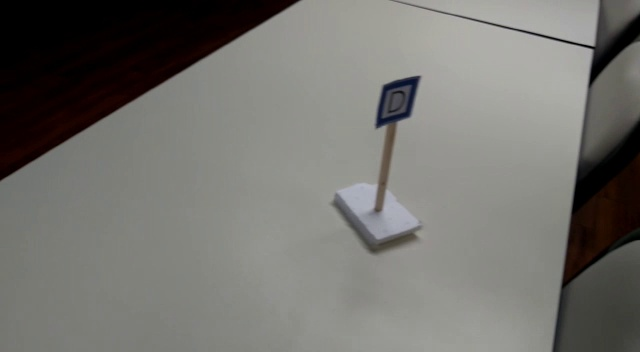durak: (377, 75, 420, 126)
